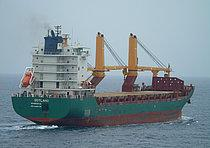Ship: (8, 23, 195, 129)
